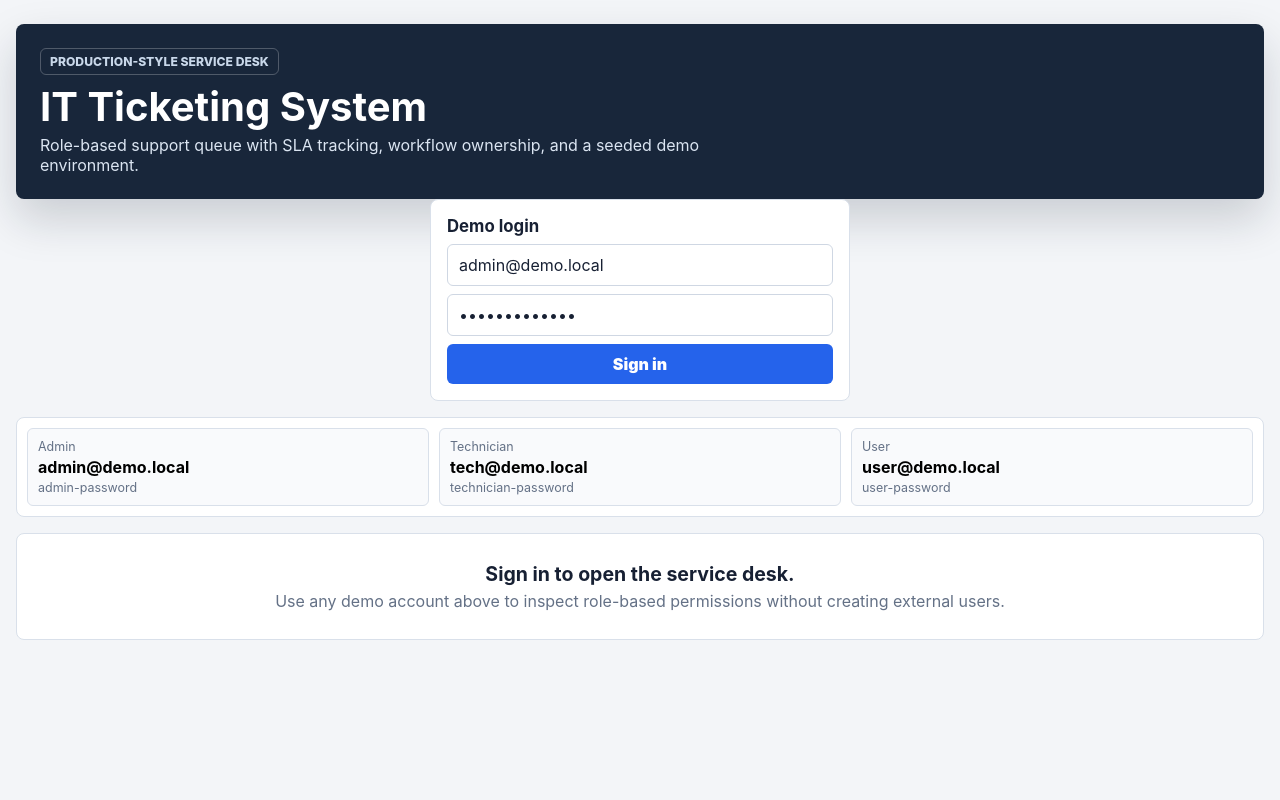
Test case: signed out › shows why a sign-in failed, with the support reference
Replace the text in the field named "Email" with "nobody@example.com" at (640, 265), box [447,244,833,286]
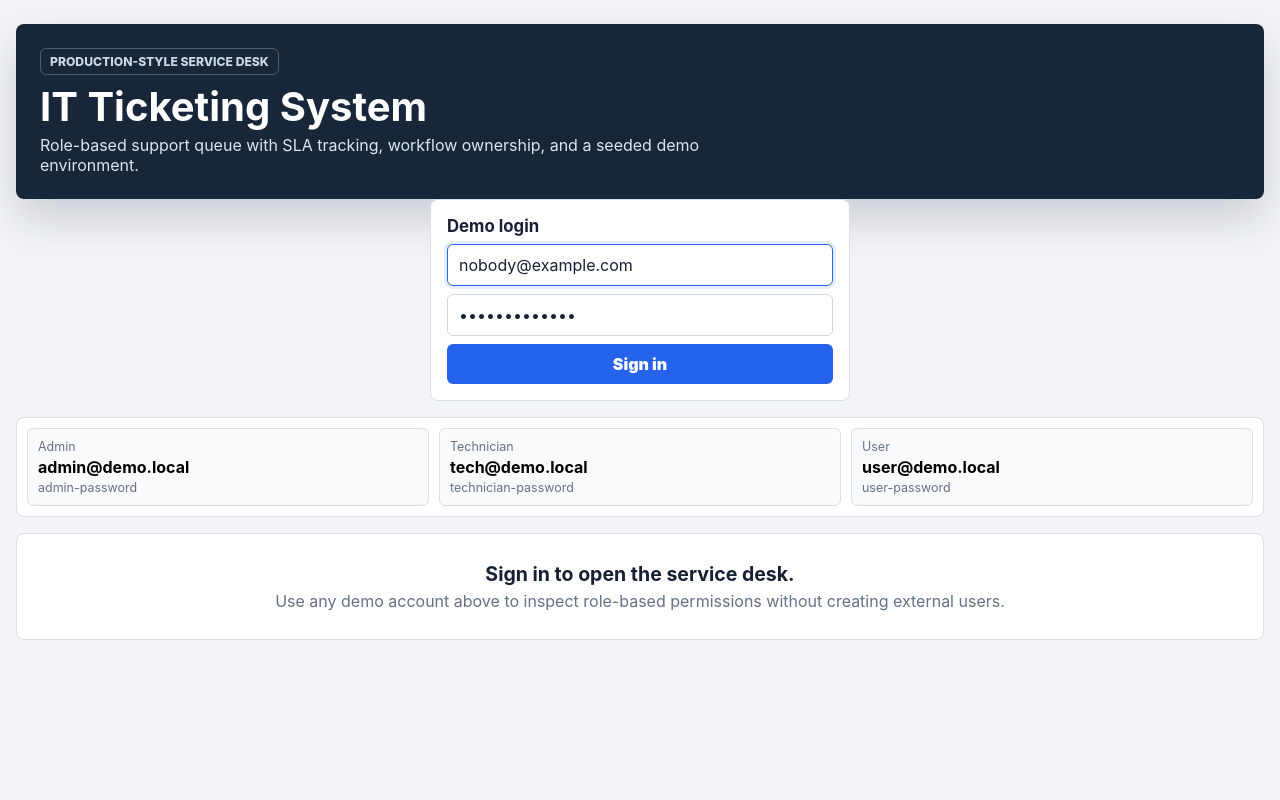
Click the button "Sign in" at (640, 364), box [447,344,833,384]
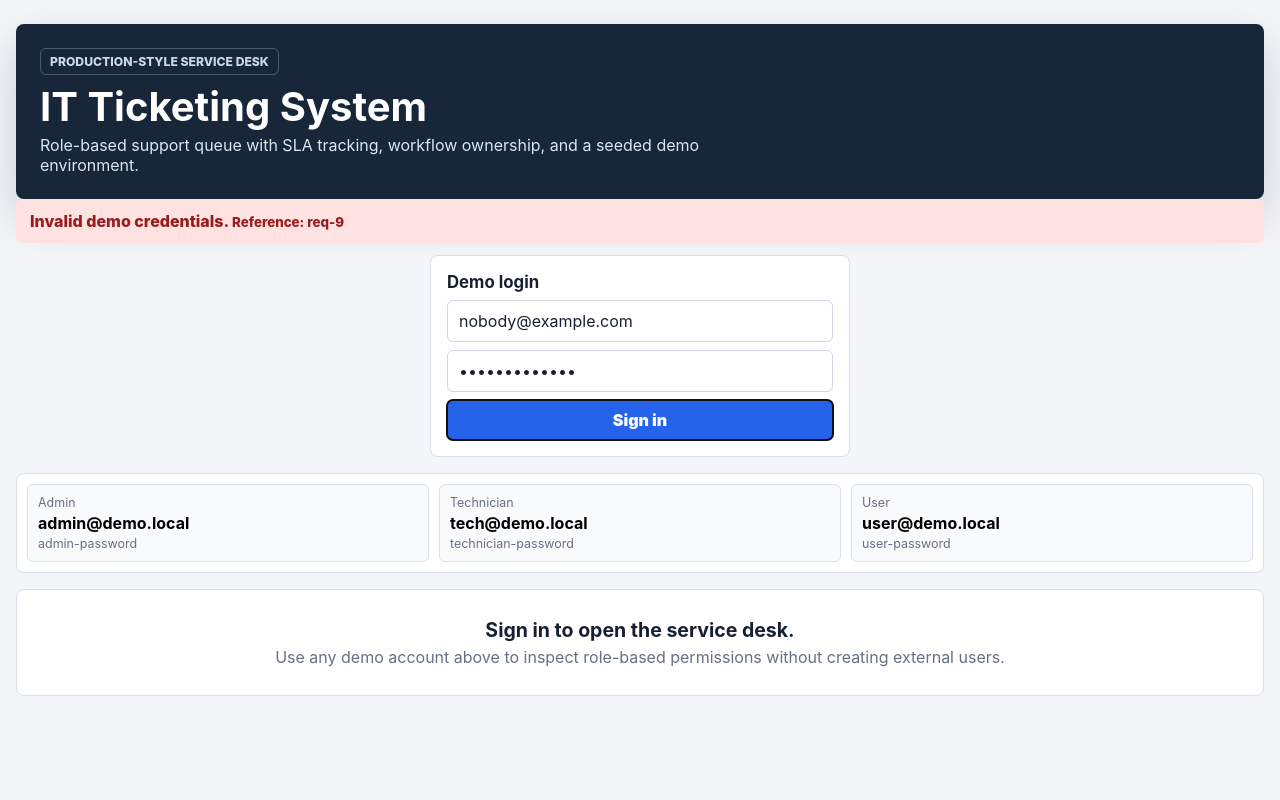
Expected: the heading "Sign in to open the service desk." is shown, [485,618,795,642]
Expected: the text "Invalid demo credentials." is shown, [30,211,229,231]
Expected: the text "Reference: req-9" is shown, [229,214,344,230]
